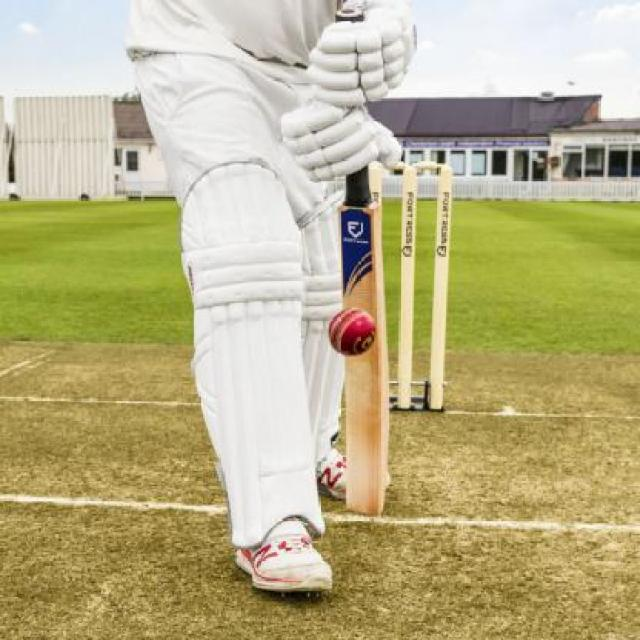ball: (300, 283, 414, 389)
